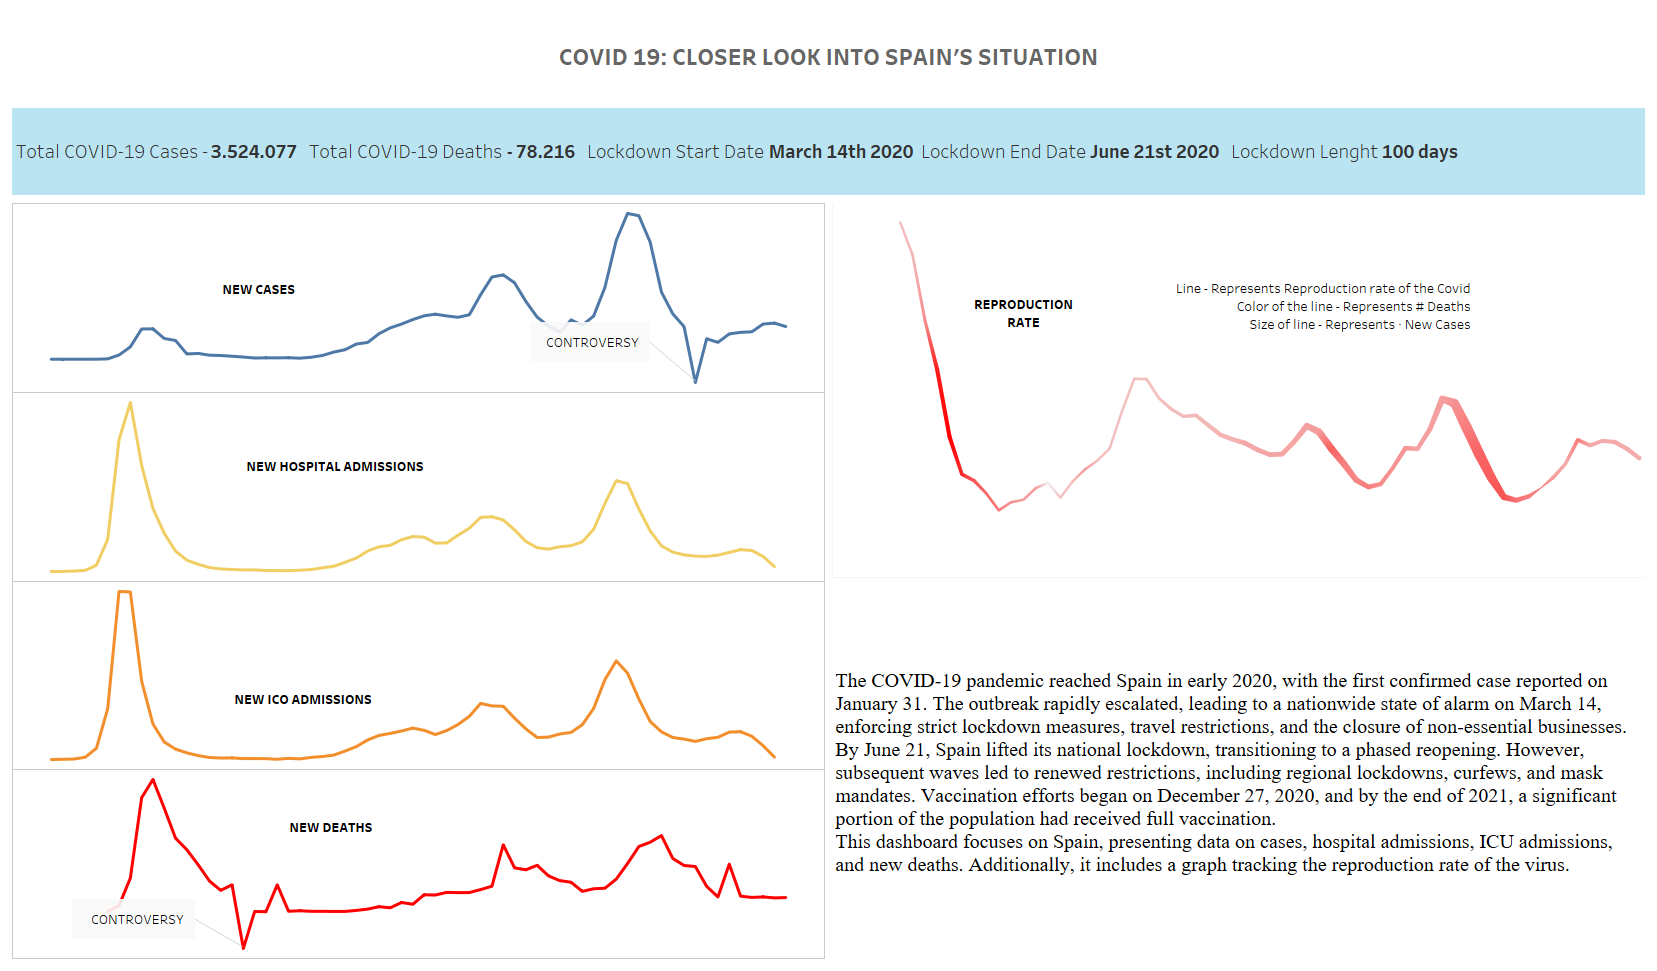

The dashboard page shown, as its layout file describes it:
{"tool":"tableau","page":{"name":"SPAIN","canvas":[1000,1000],"units":"permille","ordinal":2},"visuals":[{"type":"text","box":[4.8,9.1,990.3,98.9]},{"type":"worksheet","title":"KPI's","mark":"Automatic","box":[4.8,108,990.3,97.7]},{"type":"worksheet","title":"Spain","mark":"Automatic","rows":["new_cases","weekly_hosp_admissions","weekly_icu_admissions","new_deaths"],"cols":["date"],"box":[4.8,205.7,495.2,785.1]},{"type":"worksheet","title":"Spain - Spread Rtae","mark":"Line","rows":["reproduction_rate"],"cols":["date"],"box":[500,205.7,495.2,393.2]},{"type":"text","box":[679.5,278.9,210,72]},{"type":"text","box":[132.2,280,60.4,34.3]},{"type":"text","box":[583,294.9,69.4,54.9]},{"type":"text","box":[146.7,462.9,124.3,34.3]},{"type":"text","box":[500,598.9,495.2,392]},{"type":"text","box":[139.4,702.9,97.8,34.3]},{"type":"text","box":[172.6,834.3,60.4,34.3]}]}

Visuals, with their boxes on the dashboard's canvas, which has no fixed pixel size, in thousandths of its width and height (x1, y1, x2, y2). These are canvas units, not pixel positions in the 1657x971 screenshot, which may show the page scaled, cropped or inside an application window:
text: 5, 9, 995, 108
"KPI's" worksheet: 5, 108, 995, 206
"Spain" worksheet: 5, 206, 500, 991
"Spain - Spread Rtae" worksheet (Line marks): 500, 206, 995, 599
text: 680, 279, 890, 351
text: 132, 280, 193, 314
text: 583, 295, 652, 350
text: 147, 463, 271, 497
text: 500, 599, 995, 991
text: 139, 703, 237, 737
text: 173, 834, 233, 869
